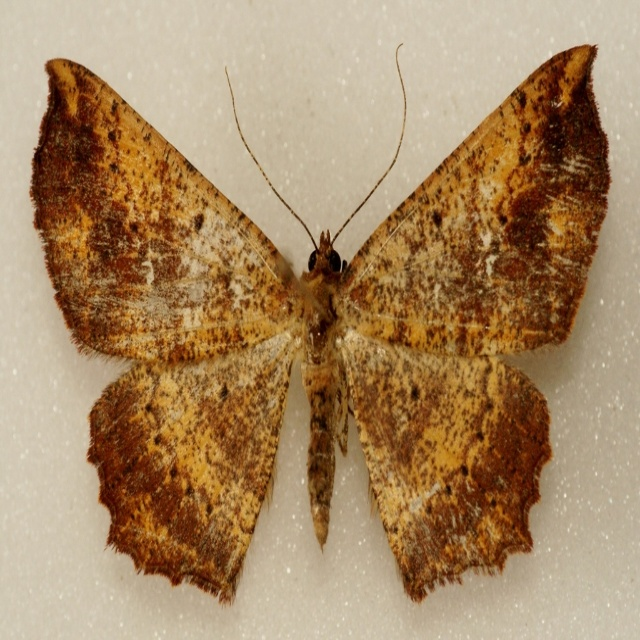Butterfly: (39, 24, 597, 623)
